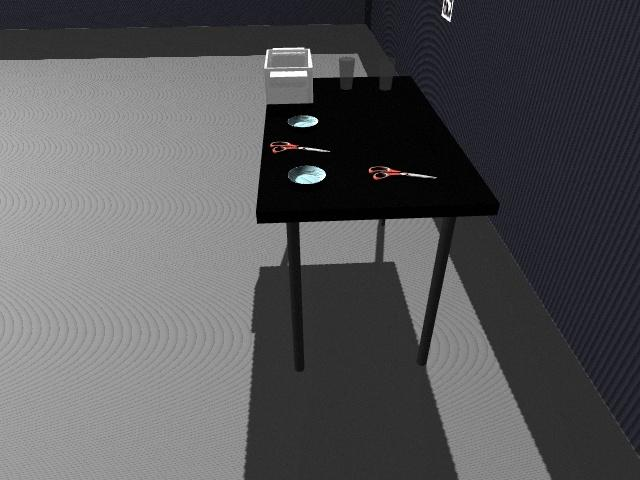cup: (339, 56, 355, 90), (378, 64, 392, 92)
plate: (287, 164, 327, 185), (286, 114, 320, 128)
scissors: (368, 165, 436, 182), (270, 141, 329, 154)
